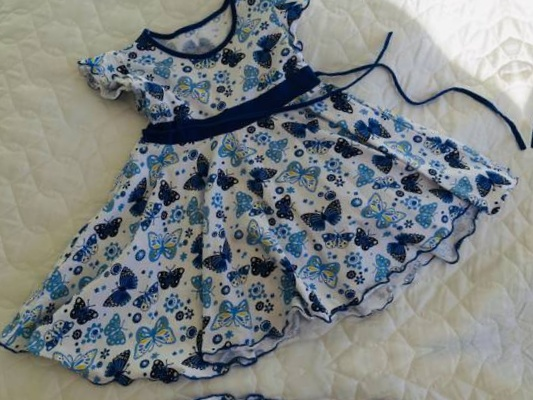Dress: (0, 0, 533, 400), (17, 342, 533, 400), (511, 0, 533, 315)
